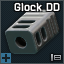Glock Double Diamond flash hider: (0, 0, 64, 64)
